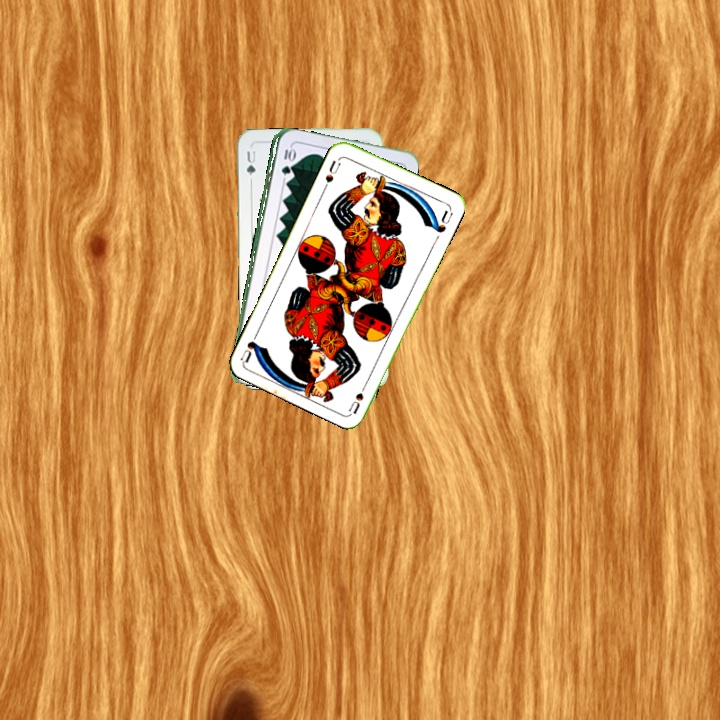G10: (277, 143, 295, 178)
GU: (242, 146, 258, 178)
SU: (345, 376, 371, 415), (320, 154, 343, 192)
